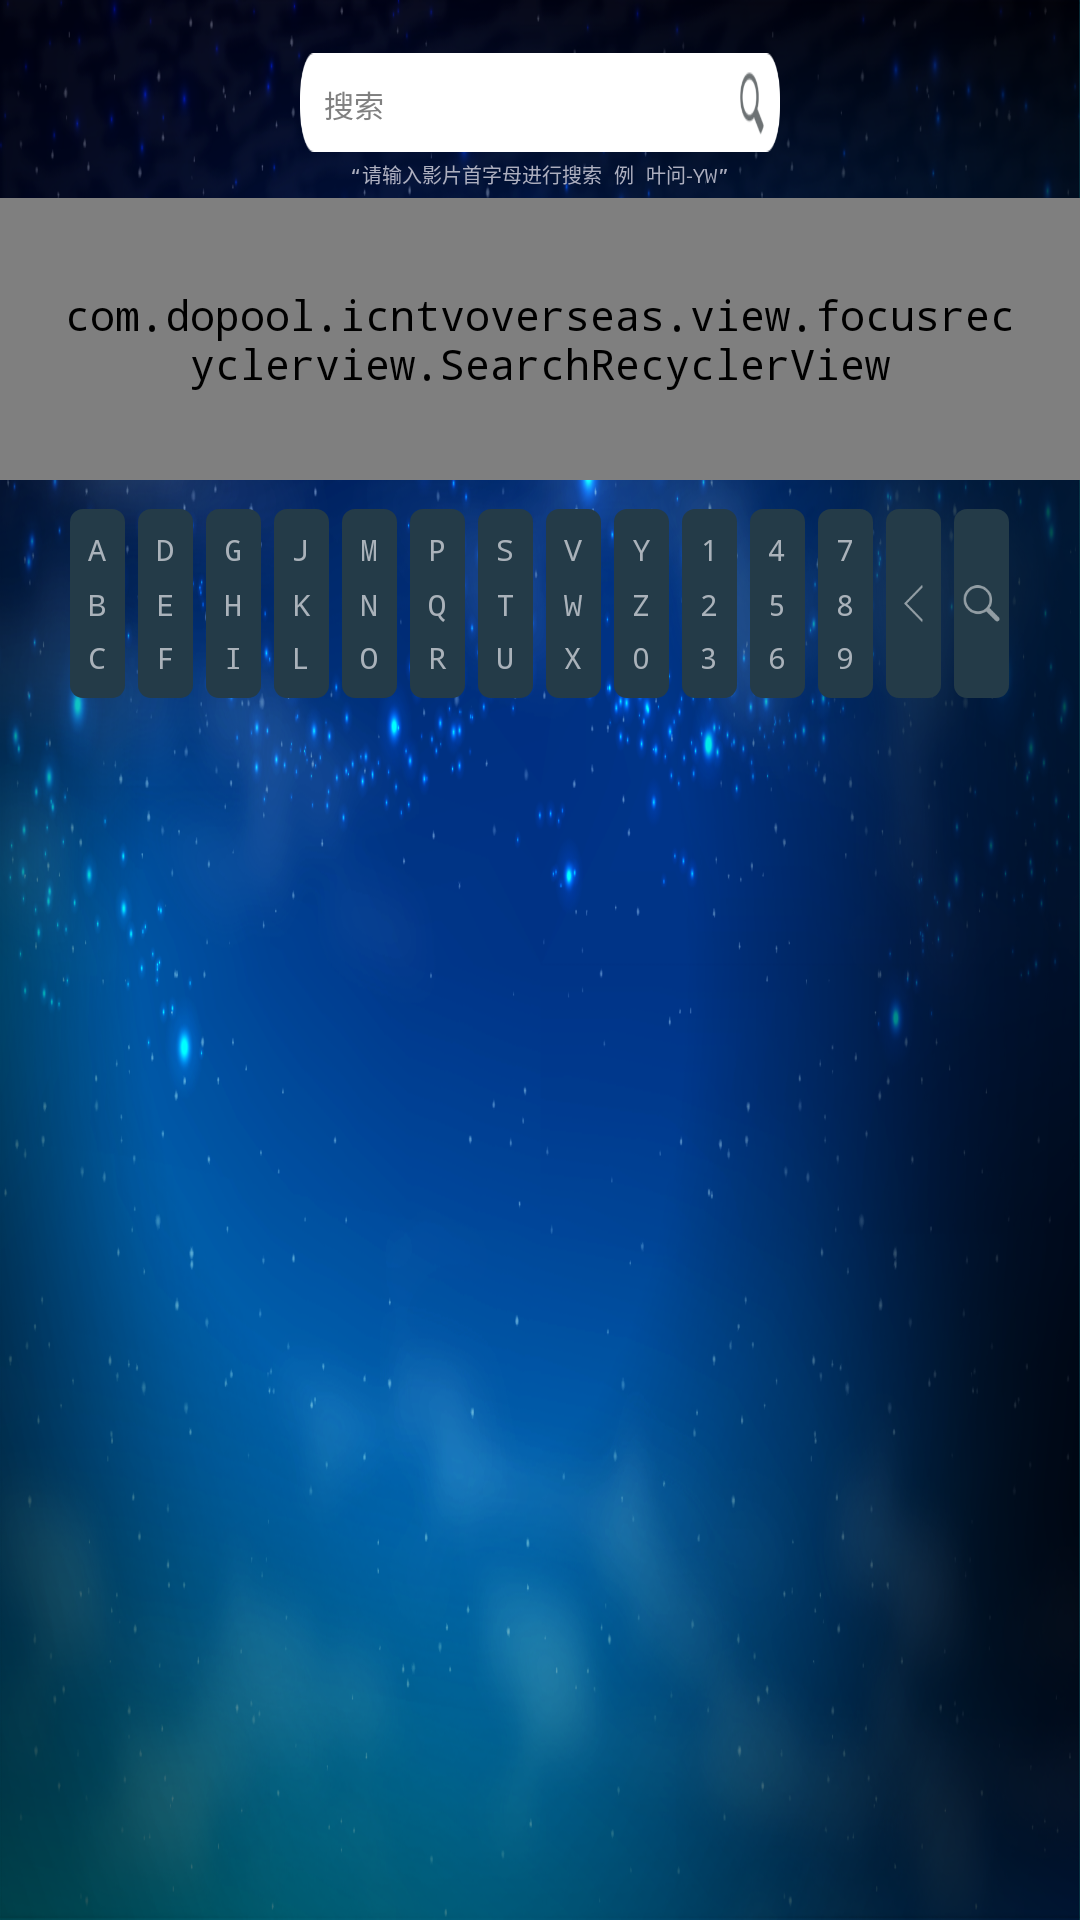

Named icons in this screenshot (1080 × 1920) and their centers, point (x, y):
search keyboard delete: point (913, 603)
